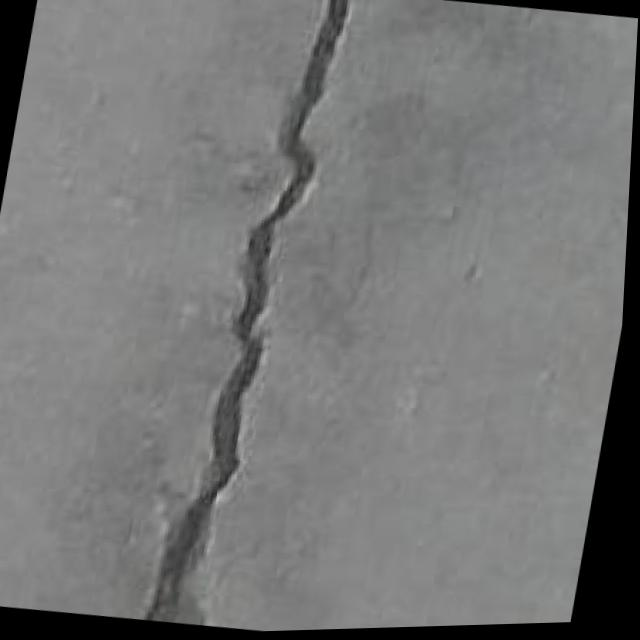Crack: (113, 0, 431, 635)
